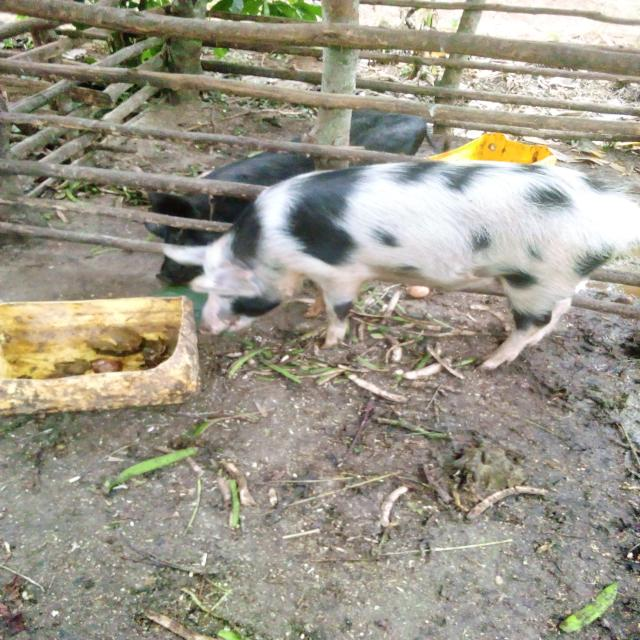pig: (113, 120, 640, 436)
